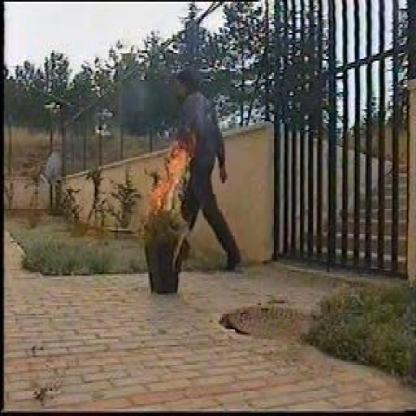foggia-v2-map80-epoch100 - v1 4323: (153, 137, 188, 213)
